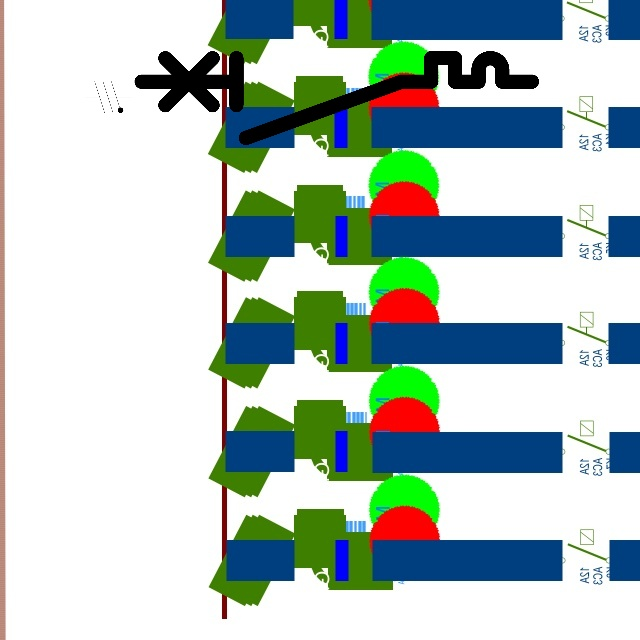interruptor_termomagnetico: (131, 48, 542, 148)
